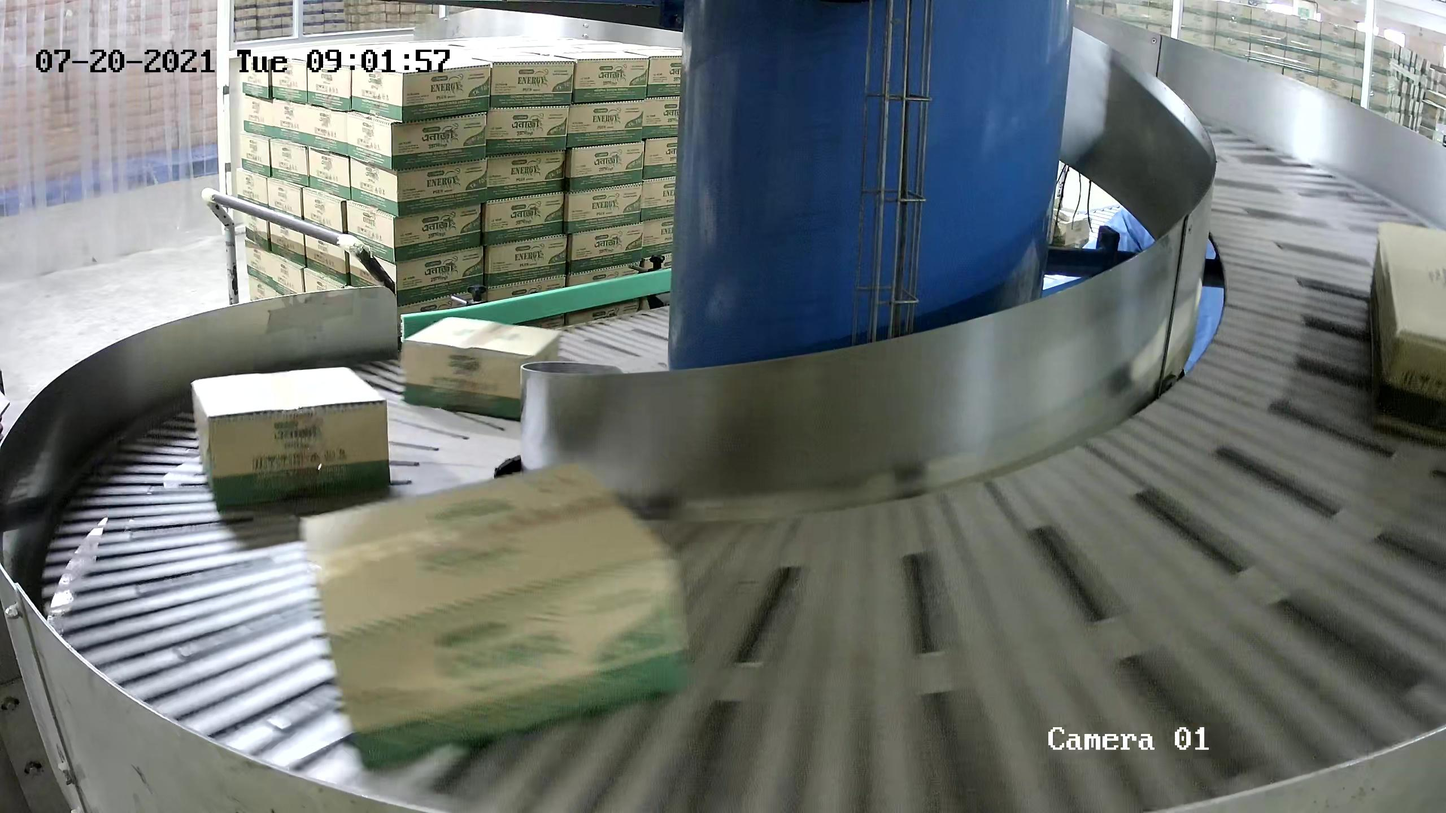Box: (294, 457, 696, 772), (189, 364, 393, 515), (1367, 218, 1446, 444), (399, 313, 564, 421)
